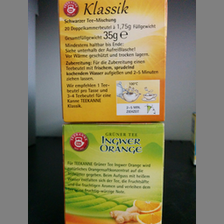tea: (58, 1, 167, 125), (61, 123, 167, 224)
